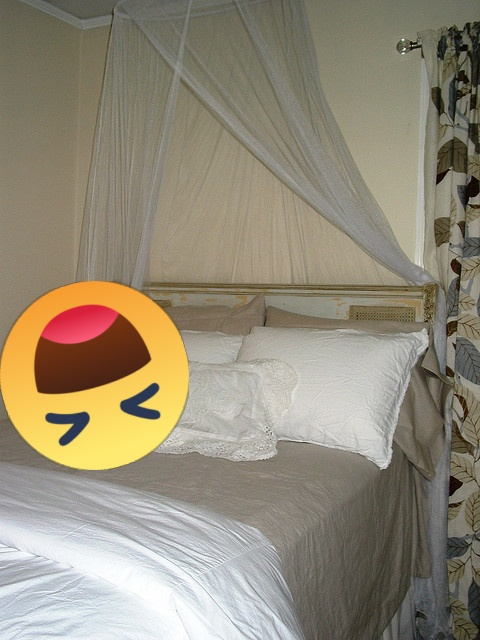haha: (0, 281, 189, 470)
